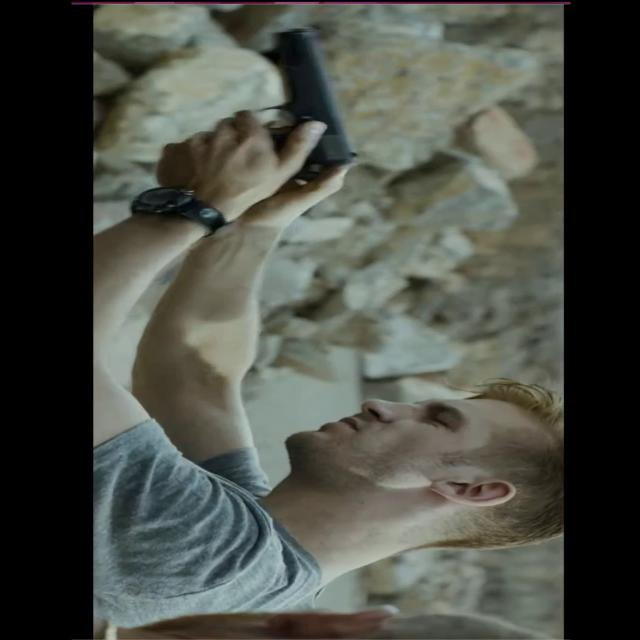weapons: (218, 23, 372, 194)
